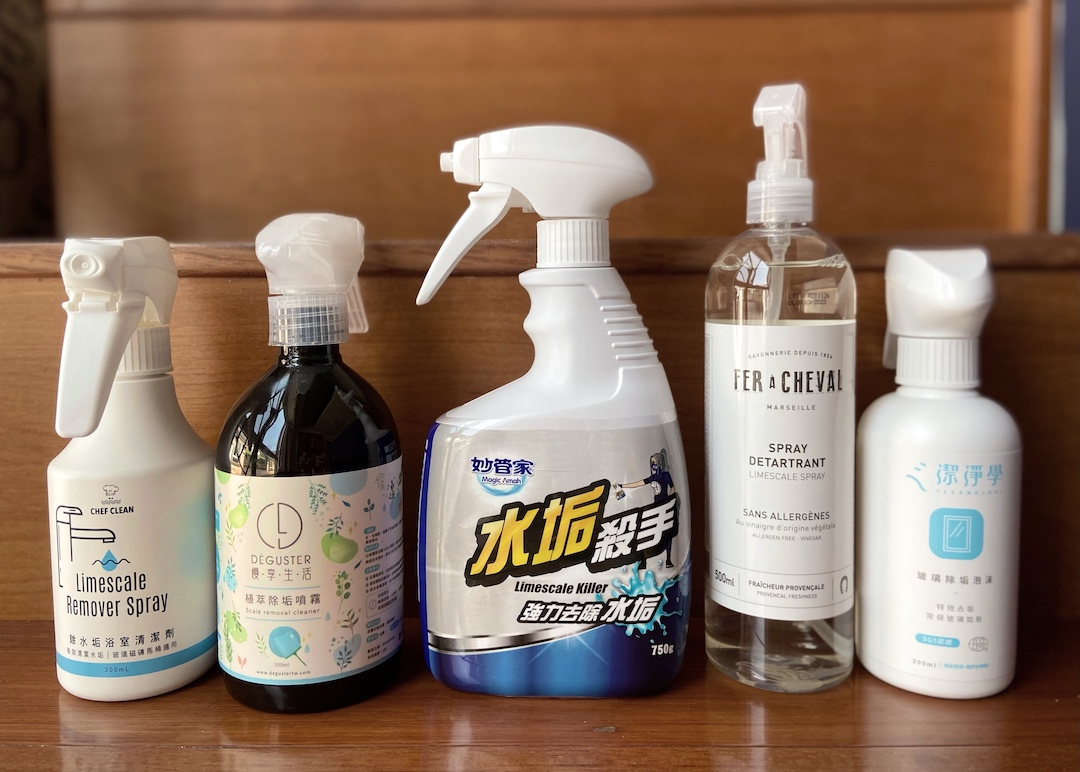cleaner: (400, 119, 700, 712), (204, 210, 418, 721), (696, 85, 861, 696), (30, 232, 227, 708), (866, 239, 1038, 710)
